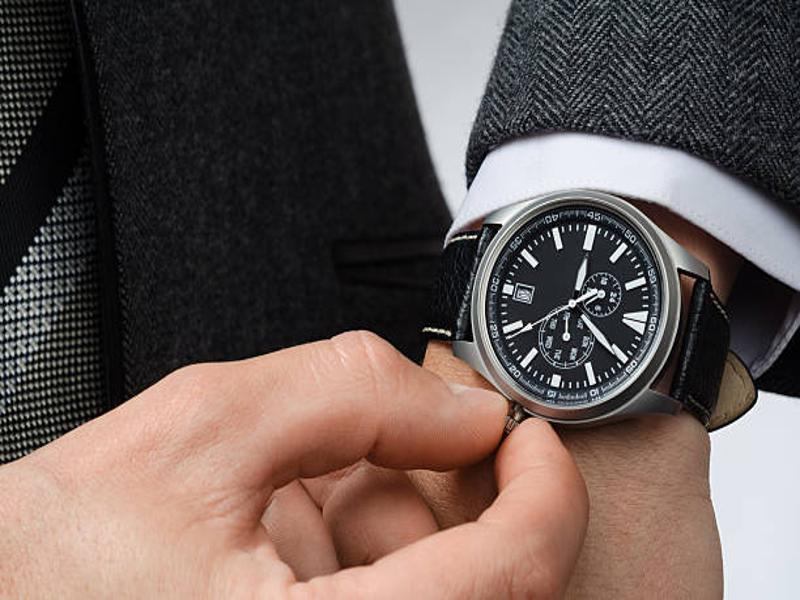watch: (412, 186, 732, 433)
